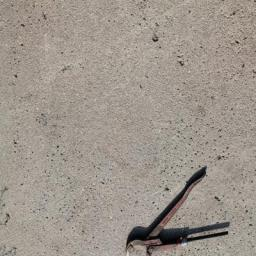FOD: (125, 165, 233, 256)
